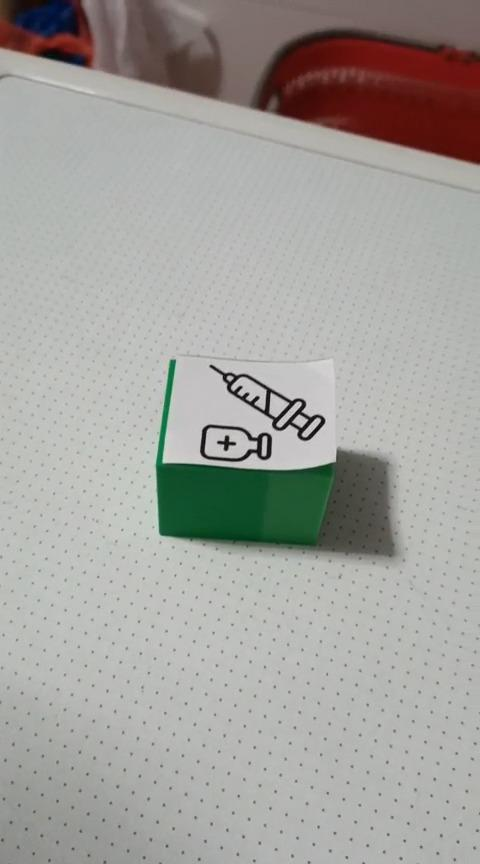antiseptic cream: (154, 352, 338, 547)
